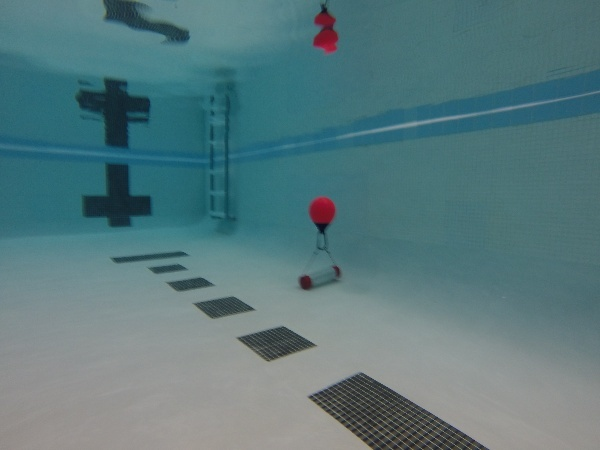buoy_red: (306, 196, 338, 234)
